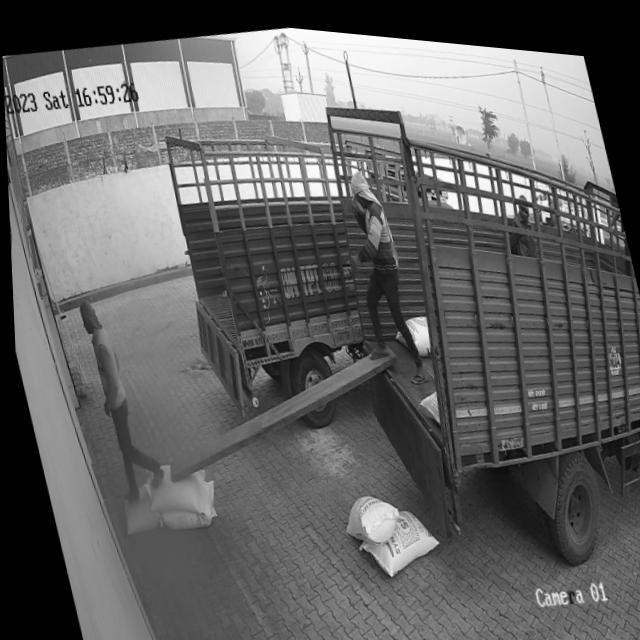sack: (345, 491, 441, 579), (137, 451, 210, 520), (146, 470, 219, 532), (334, 480, 402, 546), (110, 479, 159, 536)
